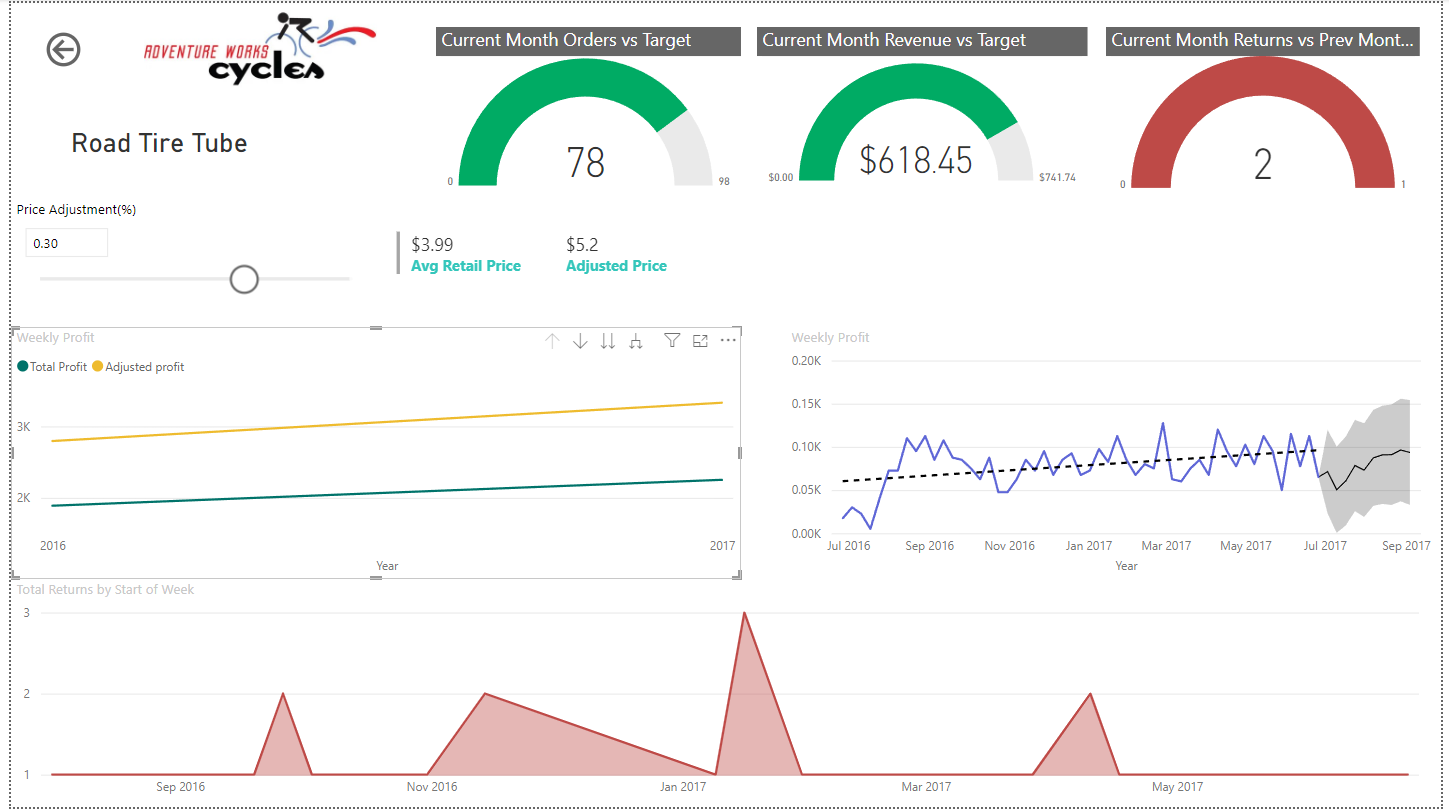

This screenshot's page, from the dashboard's own definition file:
{"tool":"powerbi","page":{"name":"Product Detail","canvas":[1280,720],"ordinal":1},"visuals":[{"type":"areaChart","fields":{"Category":["AW_Calendar_Lookup.Start of Week"],"Y":["AW_Returns.Total Returns"]},"box":[0,515.8,1279.7,204.2],"z":0},{"type":"lineChart","title":"Weekly Profit","fields":{"Y":["AW_Sales.Total Profit"],"Category":["AW_Calendar_Lookup.Start of Week.Variation.Date Hierarchy.Year","AW_Calendar_Lookup.Start of Week.Variation.Date Hierarchy.Quarter","AW_Calendar_Lookup.Start of Week.Variation.Date Hierarchy.Month","AW_Calendar_Lookup.Start of Week.Variation.Date Hierarchy.Day"]},"box":[694,290.1,585.7,225.7],"z":1000},{"type":"gauge","title":"Current Month Orders vs Target","fields":{"Y":["AW_Sales.Total Orders"],"MaxValue":["AW_Sales.Order Target"]},"box":[380.6,21.5,273.1,154],"z":2000},{"type":"gauge","title":"Current Month Revenue vs Target","fields":{"Y":["AW_Sales.Total Revenue"],"MaxValue":["AW_Sales.Revenue Target"]},"box":[668.1,21.5,295.5,154],"z":3000},{"type":"gauge","title":"Current Month Returns vs Prev Month Returns","fields":{"MaxValue":["AW_Returns.Prev Month Returns"],"Y":["AW_Returns.Total Returns"]},"box":[980.6,21.5,281.2,154],"z":4000},{"type":"card","fields":{"Values":["Min(AW_Product_Lookup.ProductName)"]},"box":[6.3,96.7,253.4,55.5],"z":5000},{"type":"actionButton","box":[26.9,21.5,73.4,40.3],"z":6000},{"type":"slicer","title":"Price Adjustment(%)","fields":{"Values":["Price Adjustment (%).Price Adjustment (%)"]},"box":[0,175.5,326.9,96.7],"z":7000},{"type":"multiRowCard","fields":{"Values":["AW_Product_Lookup.Avg Retail Price","AW_Product_Lookup.Adjusted Price"]},"box":[340.3,199.7,300,48.4],"z":8000},{"type":"lineChart","title":"Weekly Profit","fields":{"Y":["AW_Sales.Total Profit","AW_Sales.Adjusted profit"],"Category":["AW_Calendar_Lookup.Start of Week.Variation.Date Hierarchy.Year","AW_Calendar_Lookup.Start of Week.Variation.Date Hierarchy.Quarter","AW_Calendar_Lookup.Start of Week.Variation.Date Hierarchy.Month","AW_Calendar_Lookup.Start of Week.Variation.Date Hierarchy.Day"]},"box":[0,290.1,653.7,225.7],"z":9000},{"type":"image","box":[100.3,0,248.1,83.3],"z":10000}]}

Visuals, with their boxes in screenshot pixels (x1, y1, x2, y2), scaled from the page's 1280x720 canvas onto the 1449x810 screenshot:
areaChart - AW_Calendar_Lookup.Start of Week x AW_Returns.Total Returns: l=0, t=580, r=1448, b=809
"Weekly Profit" lineChart: l=786, t=326, r=1448, b=580
"Current Month Orders vs Target" gauge: l=431, t=24, r=740, b=197
"Current Month Revenue vs Target" gauge: l=756, t=24, r=1091, b=197
"Current Month Returns vs Prev Month Returns" gauge: l=1110, t=24, r=1428, b=197
card - Min(AW_Product_Lookup.ProductName): l=7, t=109, r=294, b=171
actionButton: l=30, t=24, r=114, b=70
"Price Adjustment(%)" slicer: l=0, t=197, r=370, b=306
multiRowCard - AW_Product_Lookup.Avg Retail Price x AW_Product_Lookup.Adjusted Price: l=385, t=225, r=725, b=279
"Weekly Profit" lineChart: l=0, t=326, r=740, b=580
image: l=114, t=0, r=394, b=94
